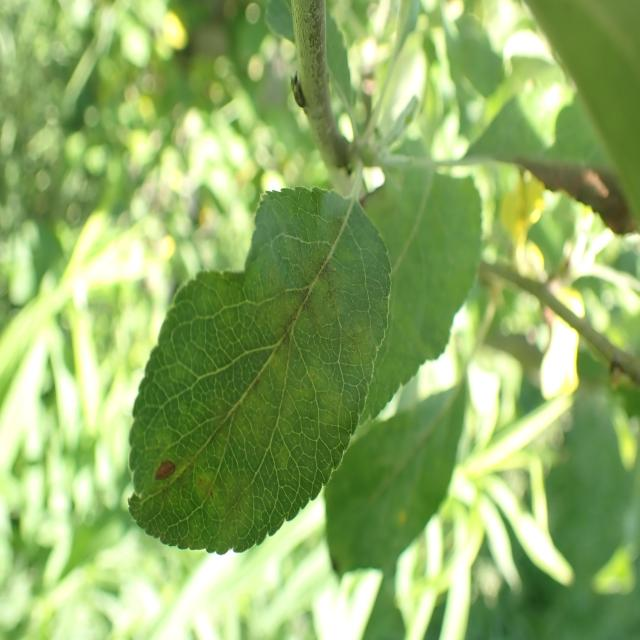frog-eye-leaf-spot: (126, 186, 392, 558)
